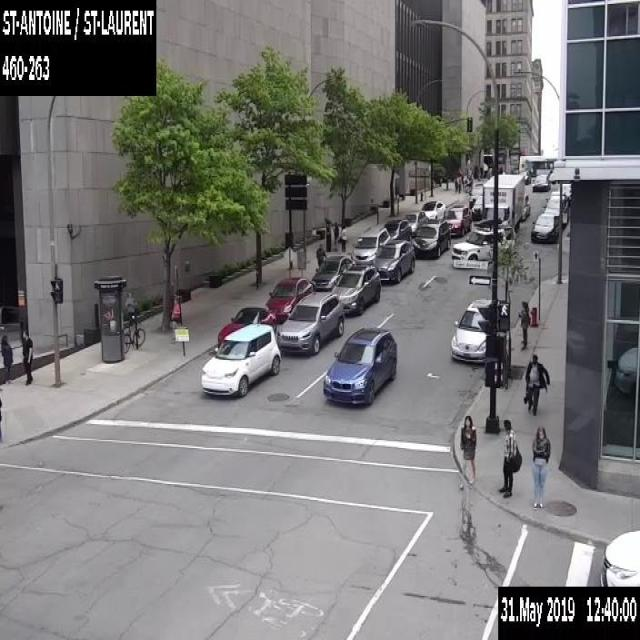bus: (518, 153, 564, 177)
construction: (283, 246, 294, 276), (296, 249, 305, 276)
pedestrian: (497, 417, 523, 496), (529, 424, 550, 509), (522, 352, 549, 415), (458, 412, 477, 480), (124, 291, 140, 337), (21, 331, 34, 385), (516, 299, 530, 349), (0, 332, 14, 381), (170, 297, 181, 339), (316, 241, 326, 267), (340, 223, 347, 254), (332, 220, 339, 251), (453, 175, 458, 192), (470, 172, 473, 188), (461, 171, 464, 186), (458, 177, 460, 192)
vehicle: (200, 322, 280, 396), (322, 327, 396, 405), (276, 290, 344, 353), (451, 216, 515, 261), (449, 296, 491, 364), (482, 172, 524, 238), (330, 264, 380, 314), (217, 305, 276, 347), (598, 527, 639, 584), (265, 275, 312, 322), (372, 238, 414, 282), (310, 254, 355, 290), (352, 224, 391, 264), (412, 218, 450, 256), (530, 212, 558, 242), (444, 203, 471, 234), (542, 195, 567, 220), (383, 218, 411, 240), (404, 210, 428, 235), (419, 200, 445, 218), (531, 173, 550, 190), (545, 190, 567, 204), (468, 187, 482, 208), (470, 194, 482, 218), (520, 193, 530, 221), (562, 182, 570, 200), (472, 180, 483, 188)
